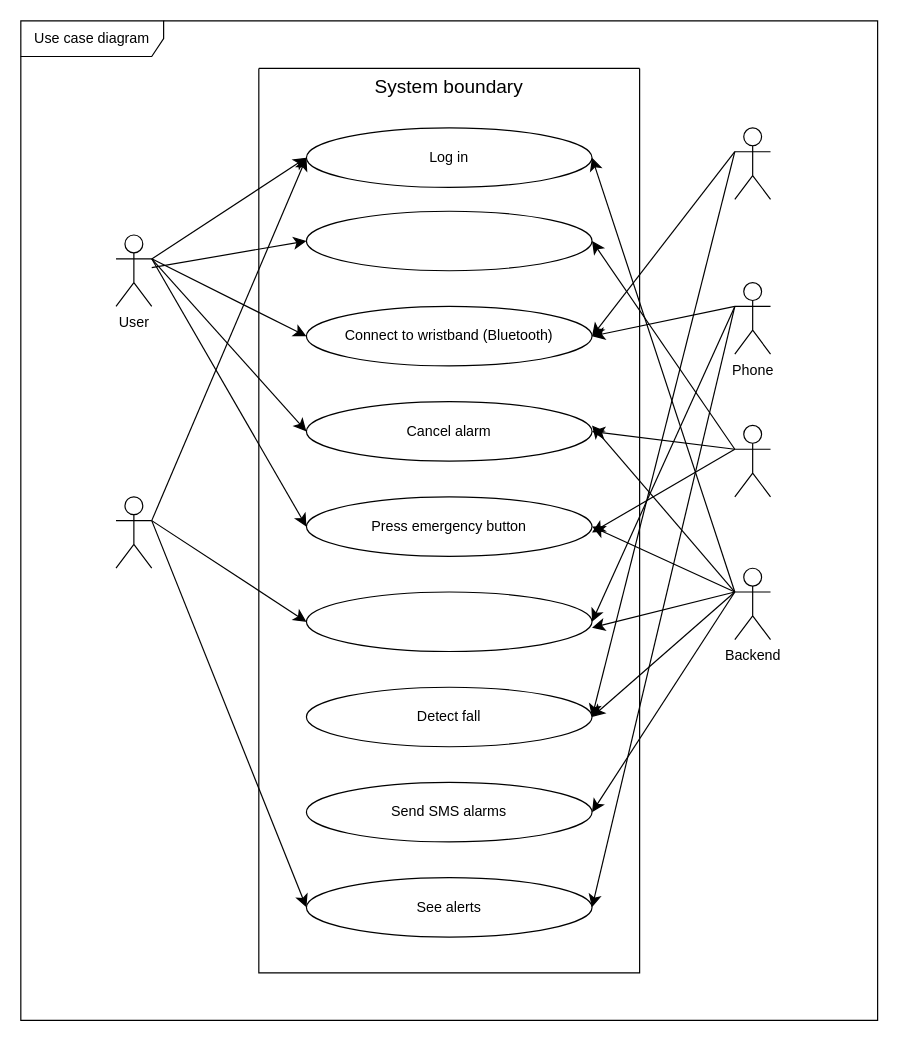
The diagram is 898 pixels wide and 1041 high, and some of its shapes have lost their labels. Each missing label, with the box of its shape:
Add relatives: (305, 210, 592, 271)
Database: (734, 424, 771, 497)
Relatives: (115, 496, 152, 568)
View GPS location in real time: (305, 591, 592, 652)
Wristband: (734, 127, 771, 199)
